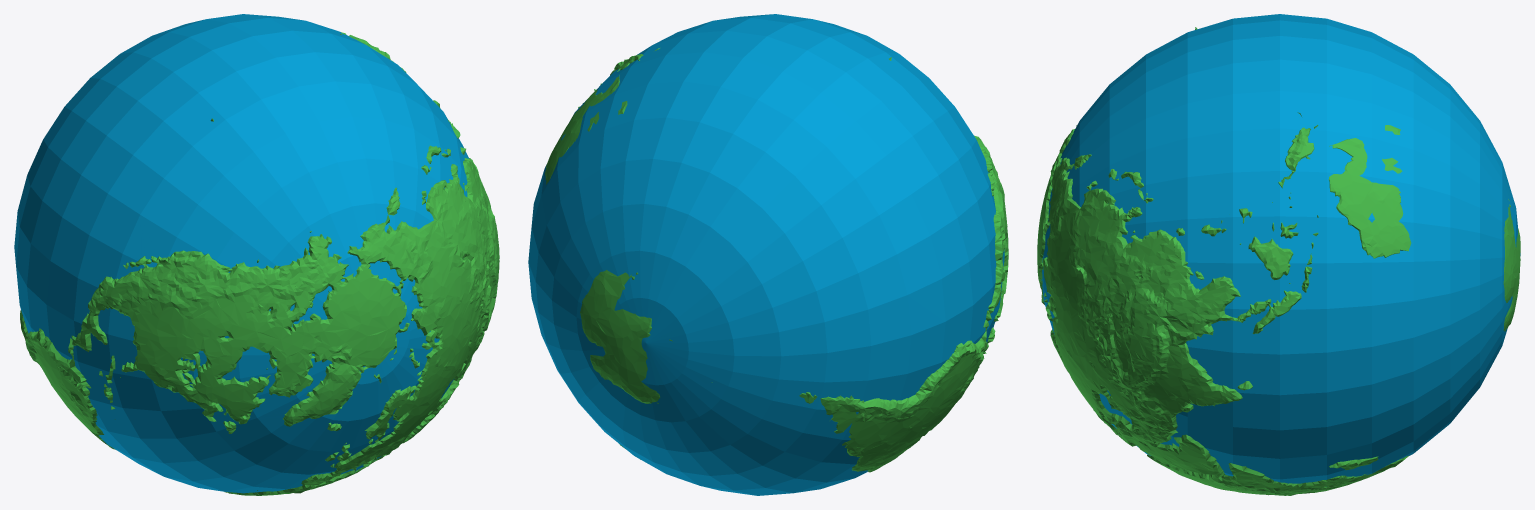
Rendered from tinker.obj.
3 renders of one model, left to right at view 1: azimuth 30°, elevation 25°; view 2: azimuth 150°, elevation 25°; view 3: azimuth 270°, elevation 25°, orthographic.
Visible parts, largest first — view 1: group_0_40919, group_0_4634441; view 2: group_0_40919, group_0_4634441; view 3: group_0_40919, group_0_4634441.
Part boxes in pixels (x1,y1,x2,y2): group_0_40919: (14, 14, 469, 493); group_0_4634441: (20, 32, 499, 495); group_0_40919: (528, 14, 1004, 495); group_0_4634441: (545, 48, 1008, 472); group_0_40919: (1041, 14, 1520, 486); group_0_4634441: (1037, 27, 1520, 495).
Size of the model in its own units: 80.51 by 81 by 81.31.
